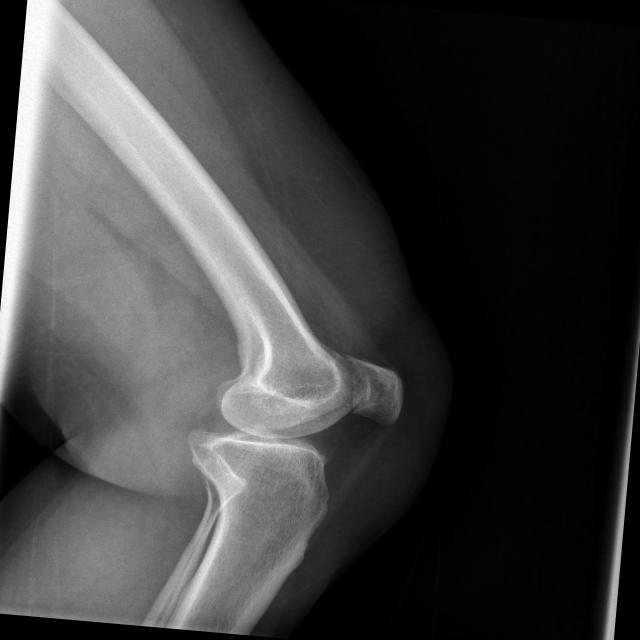Knee: (178, 311, 412, 530)
